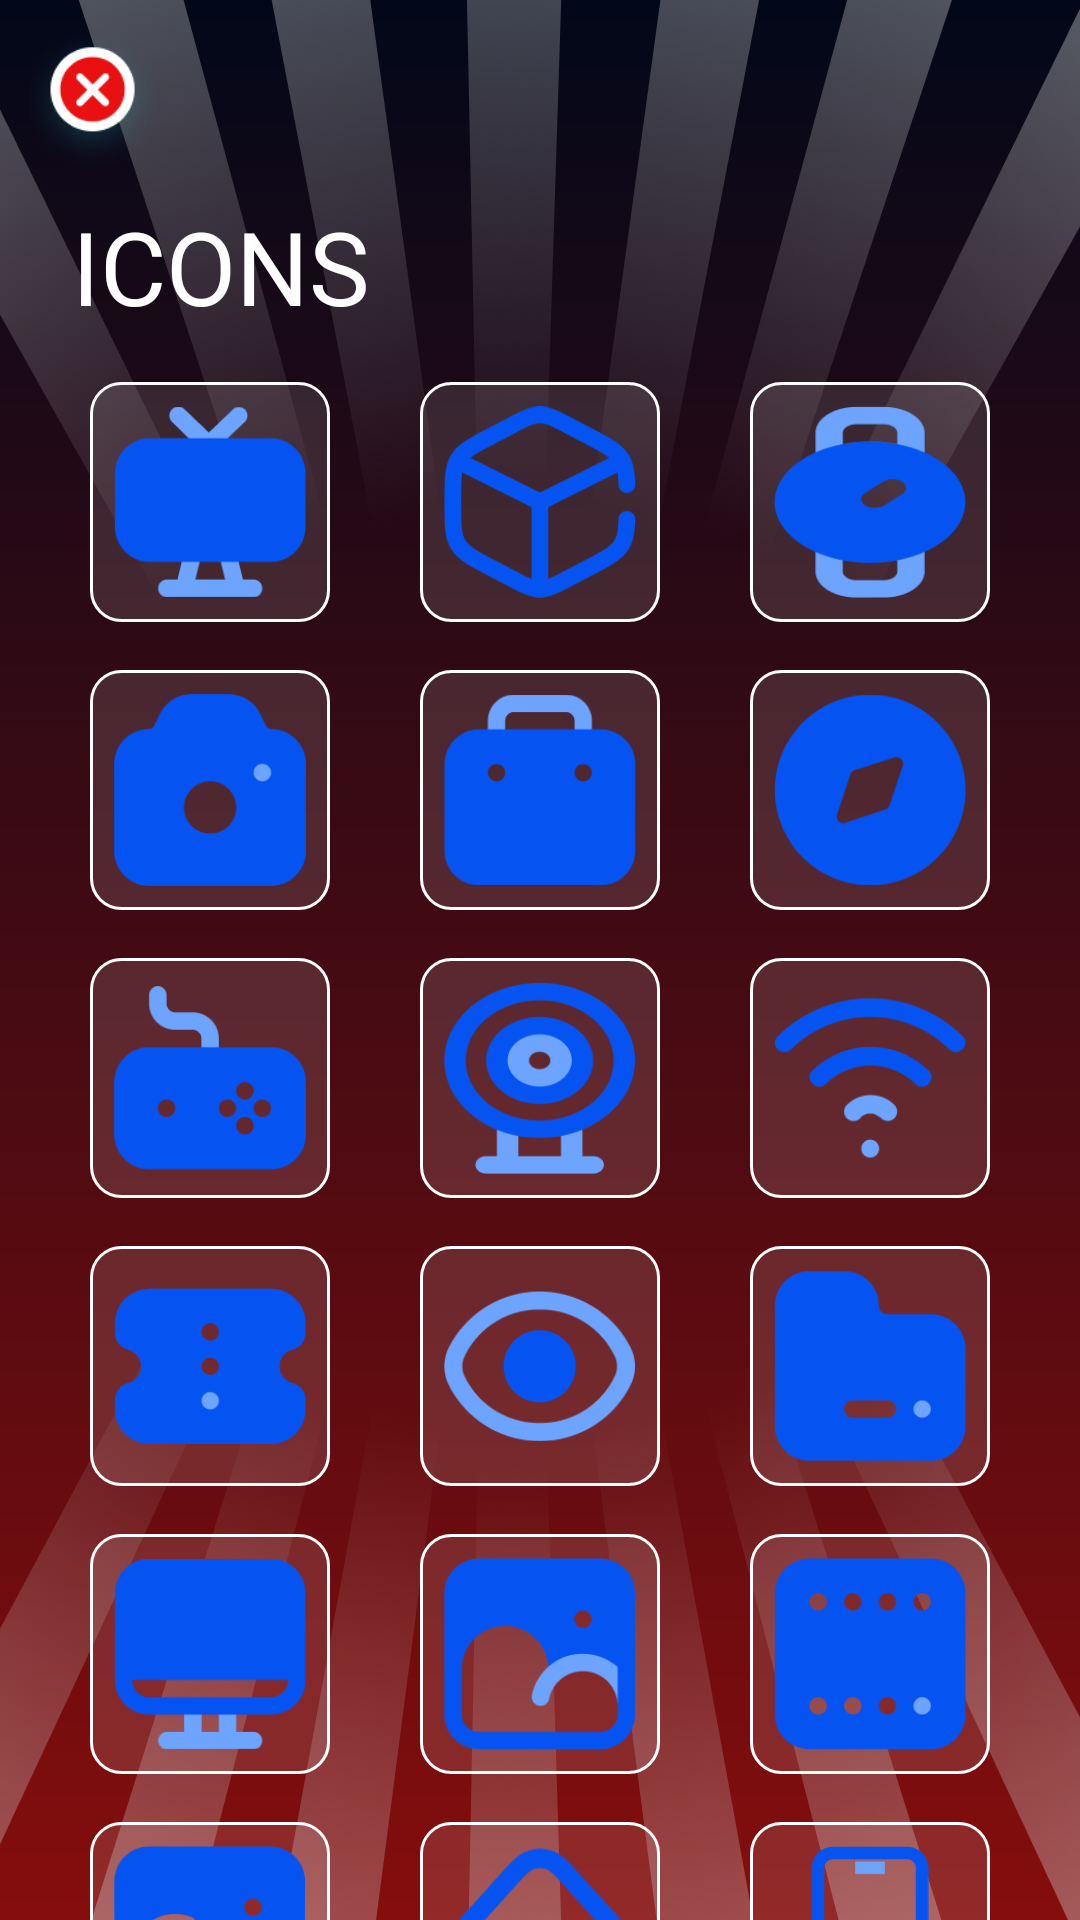

Icon click points for this 1080px×1920px phone screenshot, format (x,y):
back: (99,99)
